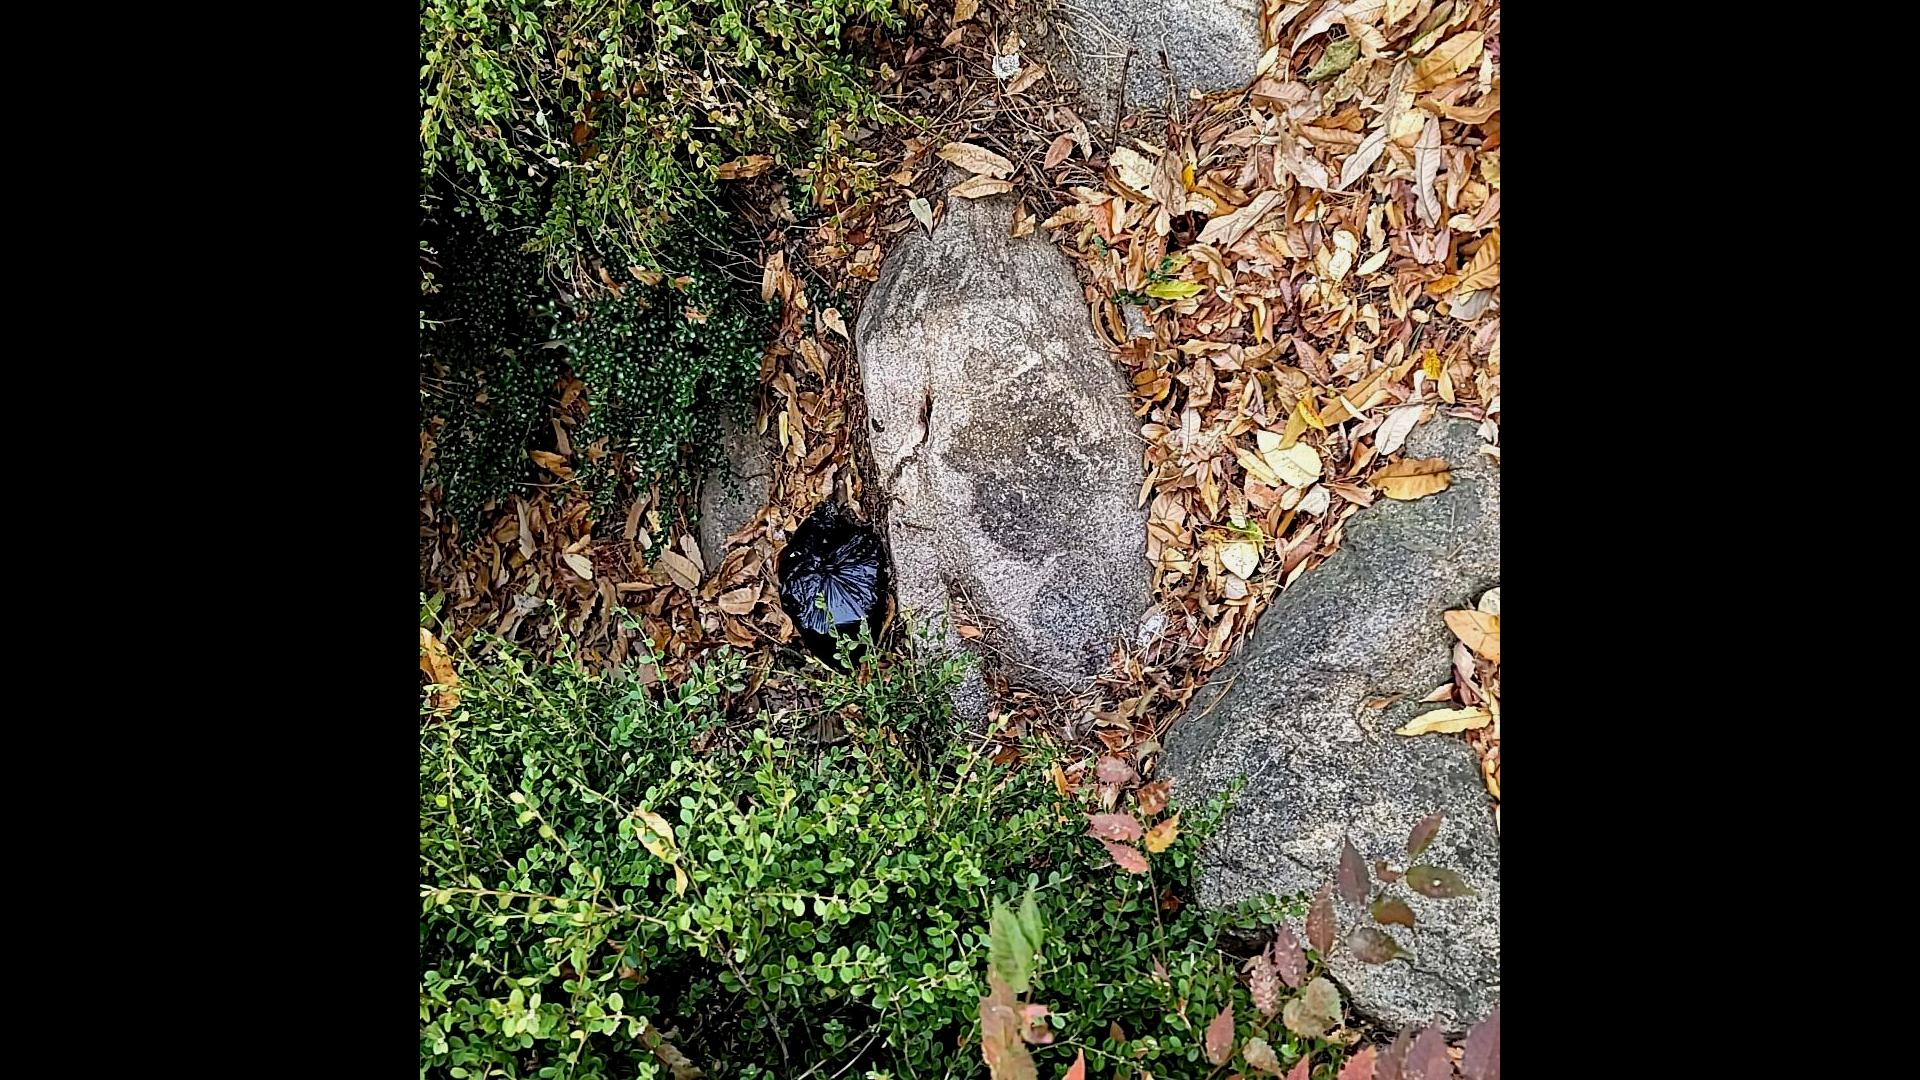black_bag: (762, 493, 901, 688)
